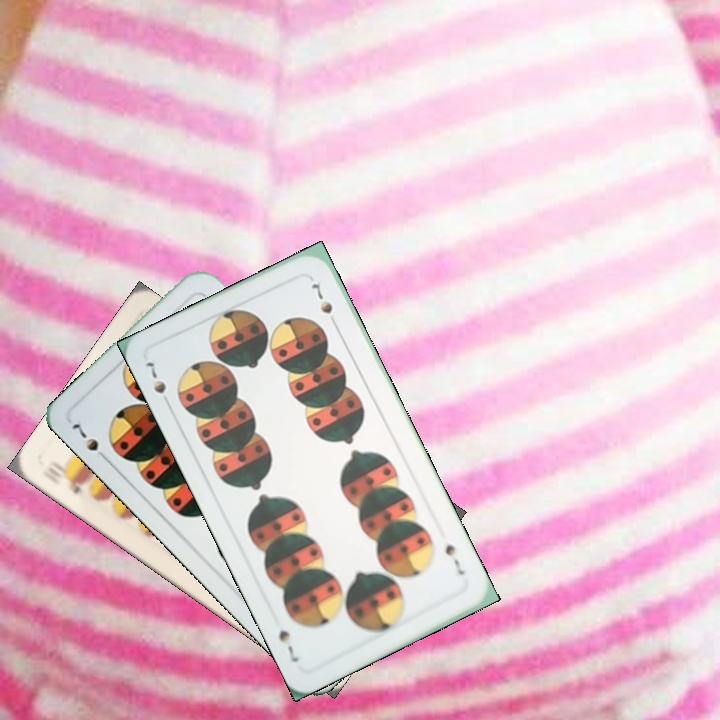E10: (44, 463, 86, 497)
S7: (68, 417, 112, 465), (141, 356, 174, 411), (440, 540, 468, 578)
